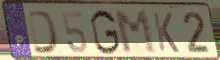2: (181, 10, 212, 55)
5: (60, 10, 89, 55)
D: (26, 9, 60, 55)
G: (89, 8, 122, 56)
K: (151, 11, 181, 55)
M: (113, 9, 159, 56)
